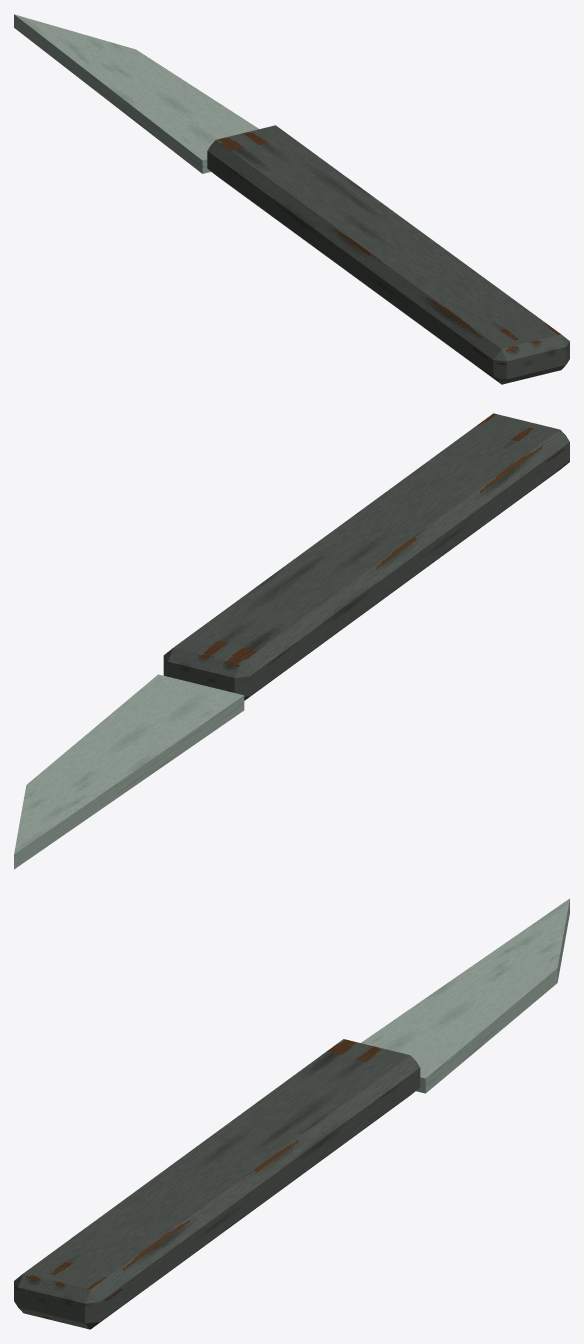
File: scalpel.glb
3 views of the same model, one above another, from view 1: azimuth 30°, elevation 25°; view 2: azimuth 150°, elevation 25°; view 3: azimuth 330°, elevation 25° (orthographic). The views are drawn at different scales.
Visible parts, largest first — view 1: Tool_Scalpel_Treatment_|_Shared_Pixel_Atlas.002; view 2: Tool_Scalpel_Treatment_|_Shared_Pixel_Atlas.002; view 3: Tool_Scalpel_Treatment_|_Shared_Pixel_Atlas.002.
Boxes of the visible parts, <box> form: Tool_Scalpel_Treatment_|_Shared_Pixel_Atlas.002: <box>14,14,569,384</box>; Tool_Scalpel_Treatment_|_Shared_Pixel_Atlas.002: <box>14,413,569,869</box>; Tool_Scalpel_Treatment_|_Shared_Pixel_Atlas.002: <box>14,898,569,1329</box>.
Size of the model in its own units: 0.018 by 0.008 by 0.2.
Materials: 1 (1 with a texture image).
